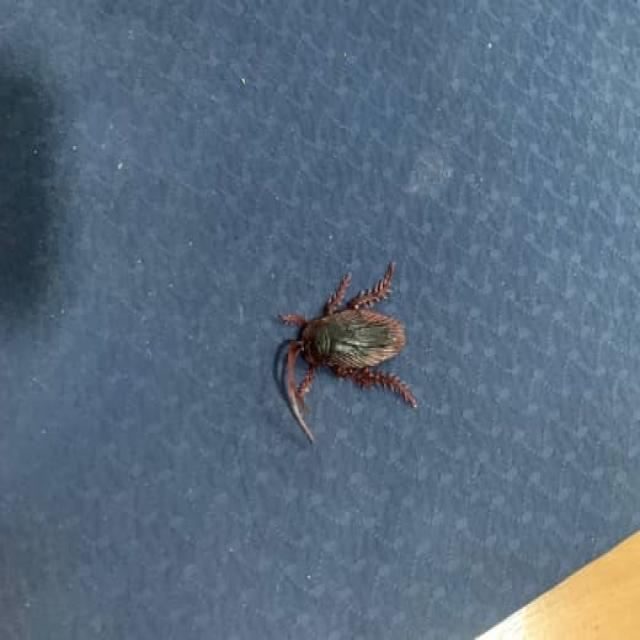Cockroach: (273, 261, 420, 436)
